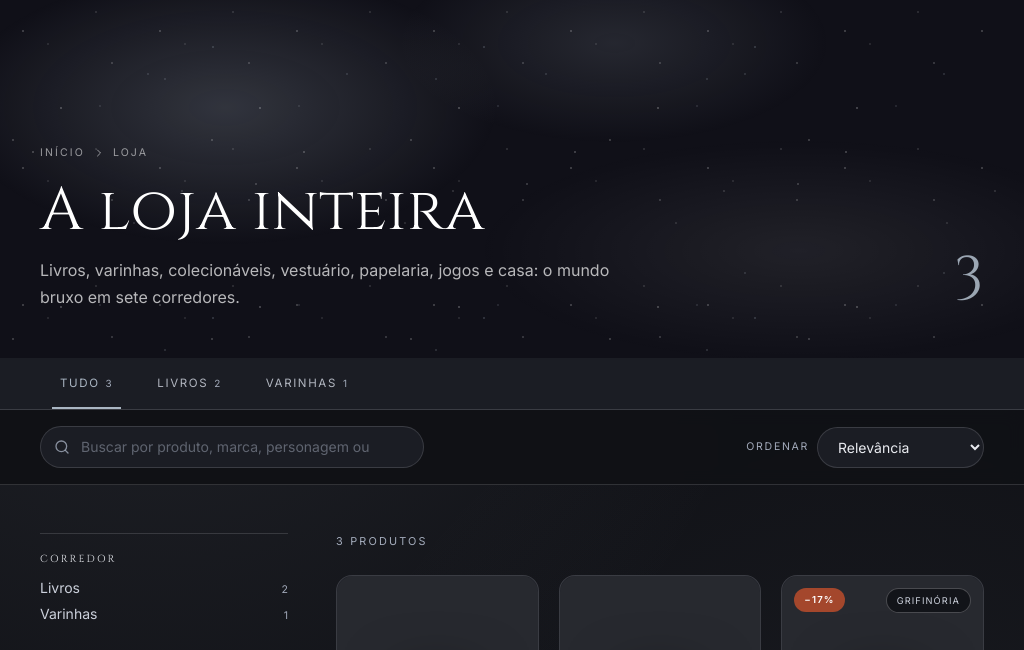
Test: Catalog page › finds a product by its ISBN, like the old consultalivros
Type "9788532511010" into the search field named "Buscar na loja" at (232, 447), box [40,426,424,468]
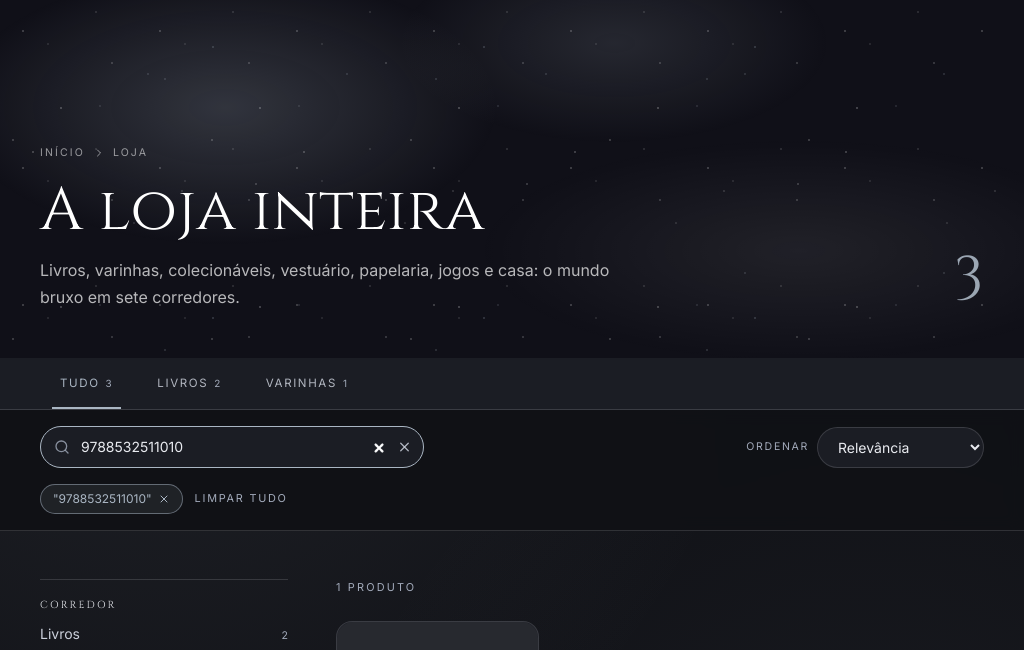
Now the text "1 produto" is shown, box [336,580,416,594]
